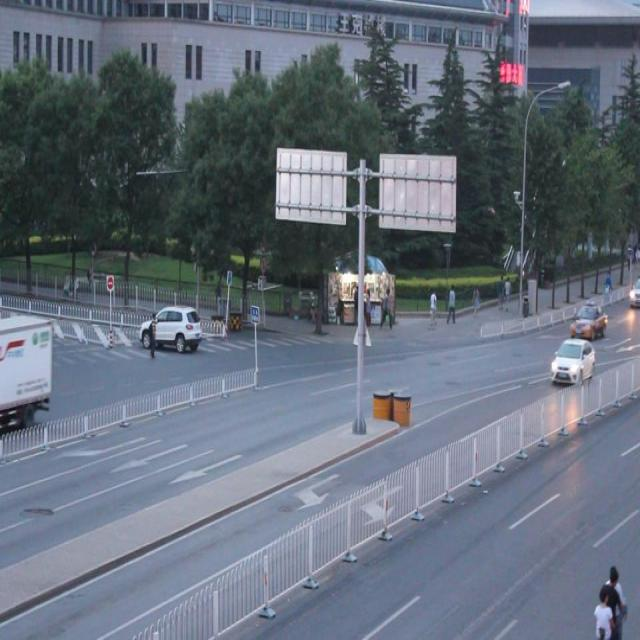bus: (1, 310, 53, 426)
car: (139, 302, 201, 349), (550, 339, 594, 383), (568, 301, 604, 337)
